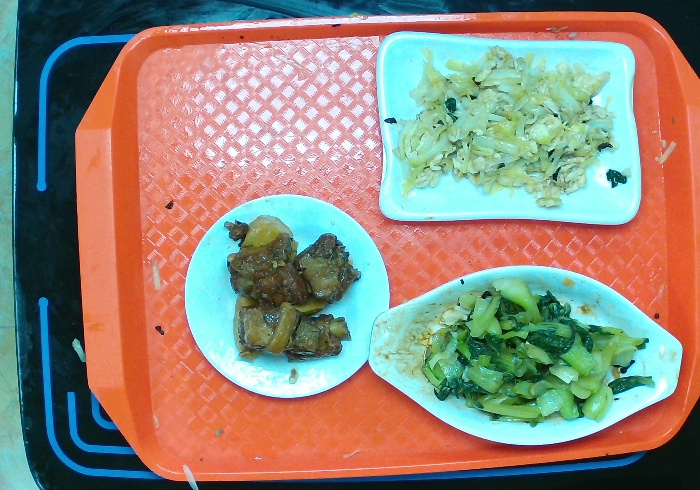RJxy-Si_Fang_Ao_Bian_Wan: (370, 25, 655, 236)
RJxy-Xiao_Yuan_Die: (181, 189, 390, 402)
RJxy-Yu_Pan: (362, 256, 686, 452)
